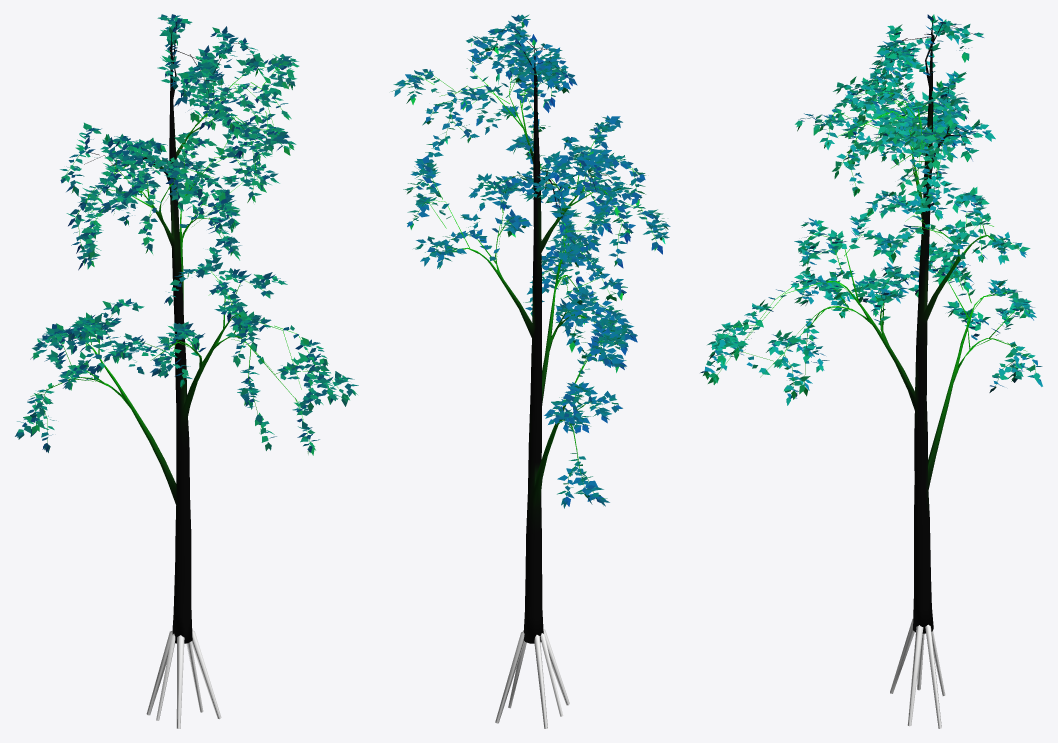
3 views of the same model, side by side, from view 1: azimuth 30°, elevation 25°; view 2: azimuth 150°, elevation 25°; view 3: azimuth 270°, elevation 25° (orthographic).
Visible parts, largest first — view 1: Foliage, Trunk, Branches, Twigs, RootTips; view 2: Foliage, Trunk, Twigs, Branches, RootTips; view 3: Foliage, Trunk, Branches, Twigs, RootTips.
Part boxes in pixels (x1,y1,x2,y2): Foliage: [15, 14, 358, 455]; Trunk: [169, 42, 192, 643]; Branches: [58, 46, 274, 504]; Twigs: [30, 20, 339, 442]; RootTips: [146, 630, 221, 728]; Foliage: [391, 14, 670, 508]; Trunk: [523, 58, 543, 643]; Twigs: [404, 29, 656, 496]; Branches: [456, 57, 587, 509]; RootTips: [495, 629, 569, 728]; Foliage: [700, 14, 1042, 405]; Trunk: [913, 29, 933, 633]; Branches: [797, 34, 1001, 490]; Twigs: [717, 22, 1035, 392]; RootTips: [890, 619, 945, 728].
Bounding box in the file's own units: 7160 × 8409 × 18893.
